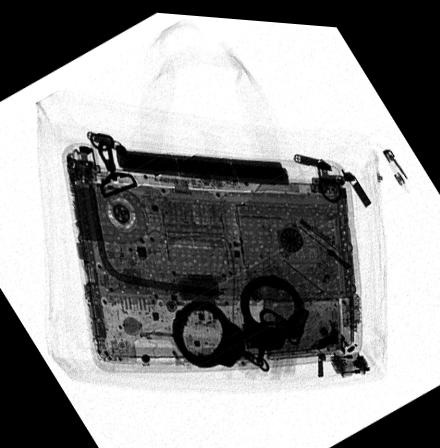HandCuffs: (169, 268, 305, 369)
